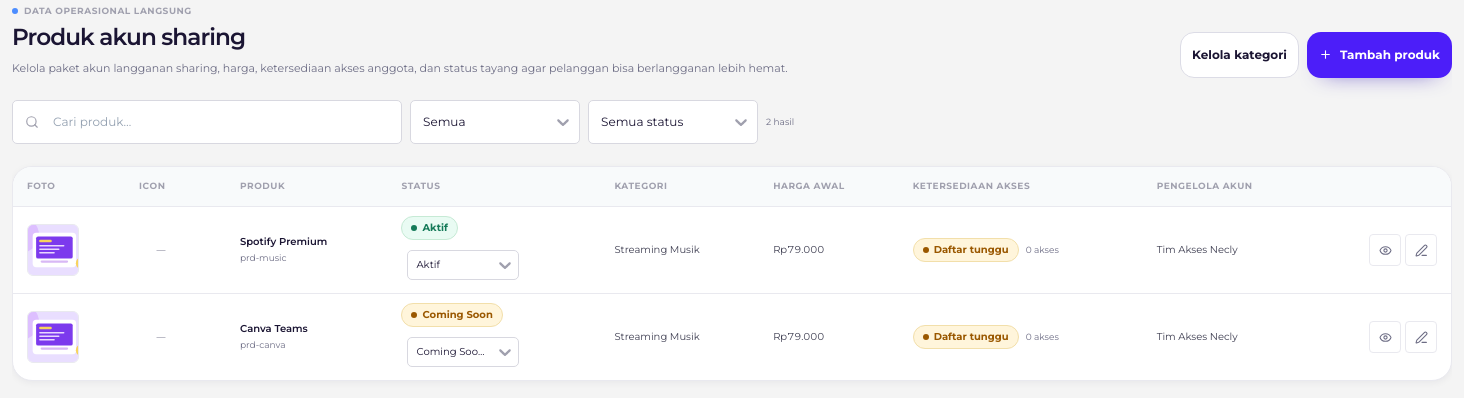
it: produk admin (W18) › menyaring tabel berdasarkan status Coming Soon
Expected: the text "Canva Teams" is shown, [240,322,308,335]
Focus the dropdown named "Filter status" at (601, 122), box [599,112,602,132]
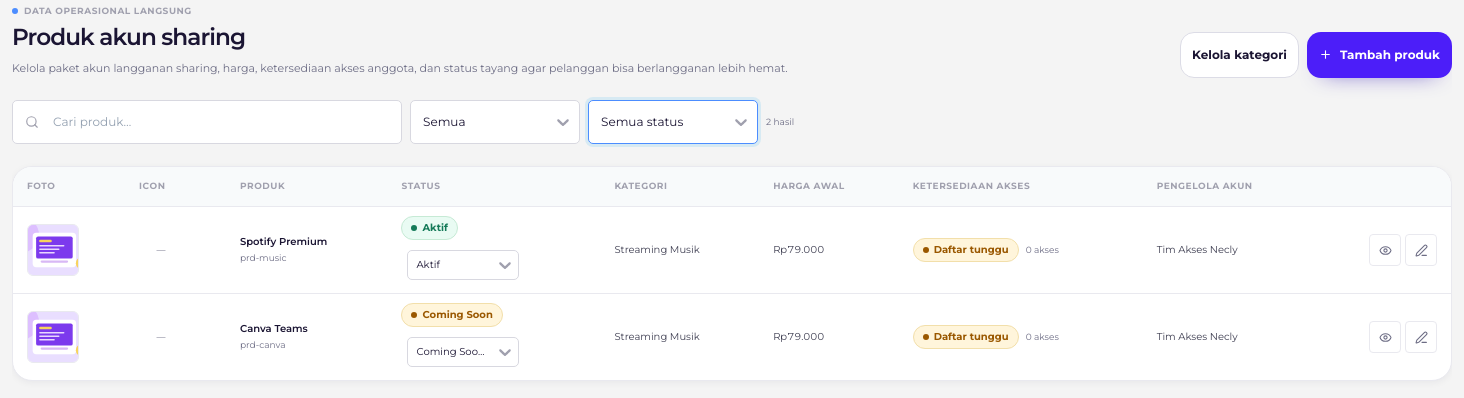
Press ArrowDown in the dropdown named "Filter status", box [599,112,602,132]
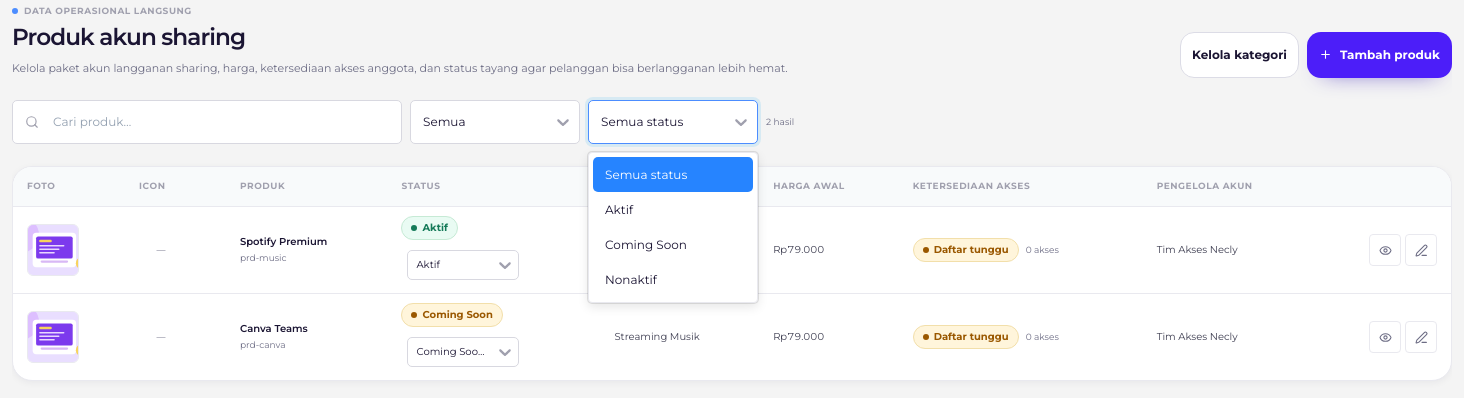
Click the option "Coming Soon".
click(646, 245)  # box [605,237,687,252]
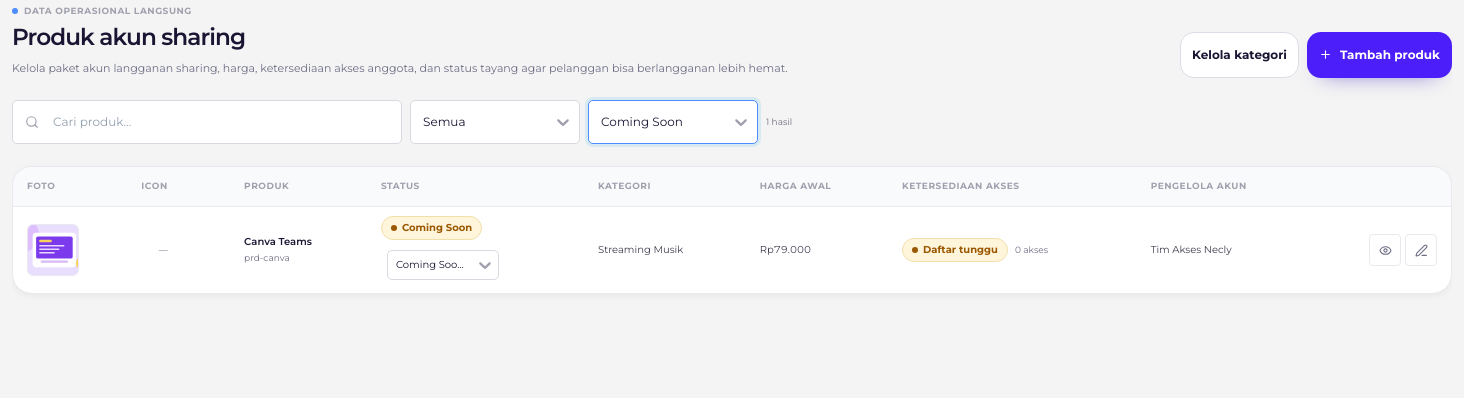
Expected: the text "Canva Teams" is shown, [244,235,312,248]
Expected: the text "Spotify Premium" is gone
